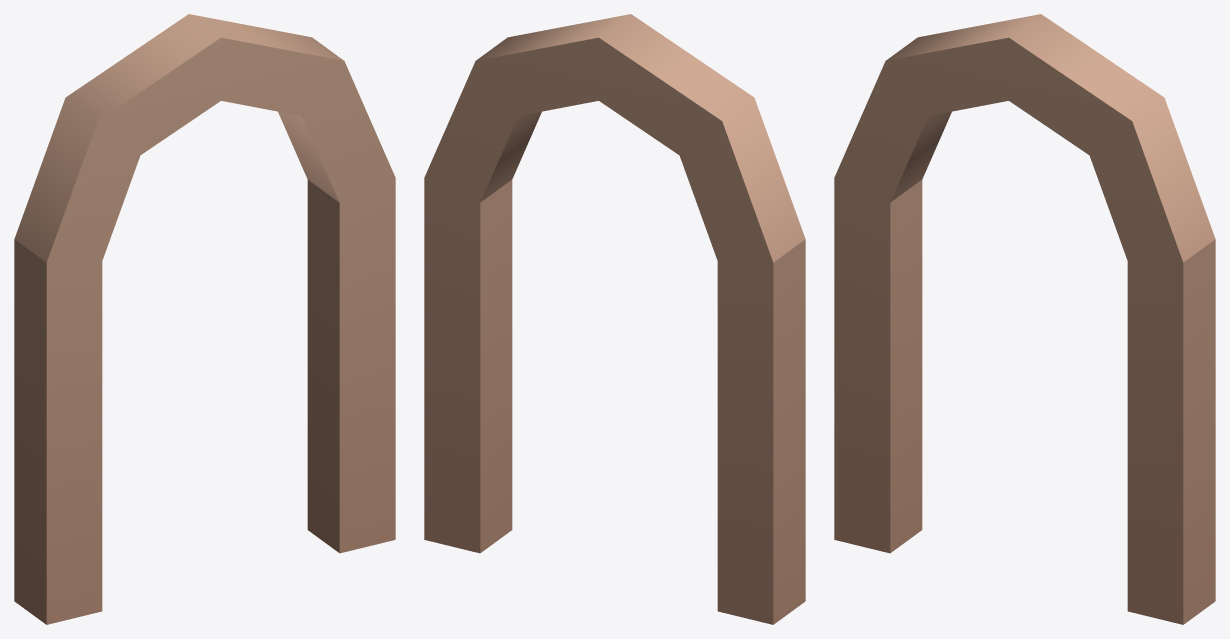
Rendered from window-brown-round-top.glb.
3 renders of one model, left to right at view 1: azimuth 30°, elevation 25°; view 2: azimuth 150°, elevation 25°; view 3: azimuth 330°, elevation 25°, orthographic.
Parts seen in each view (by area): view 1: window-brown-round-top; view 2: window-brown-round-top; view 3: window-brown-round-top.
Part boxes in pixels (x1,y1,x2,y2): window-brown-round-top: [14, 14, 395, 624]; window-brown-round-top: [424, 14, 805, 624]; window-brown-round-top: [834, 14, 1215, 624].
Size of the model in its own units: 0.3125 by 0.4662 by 0.05.
